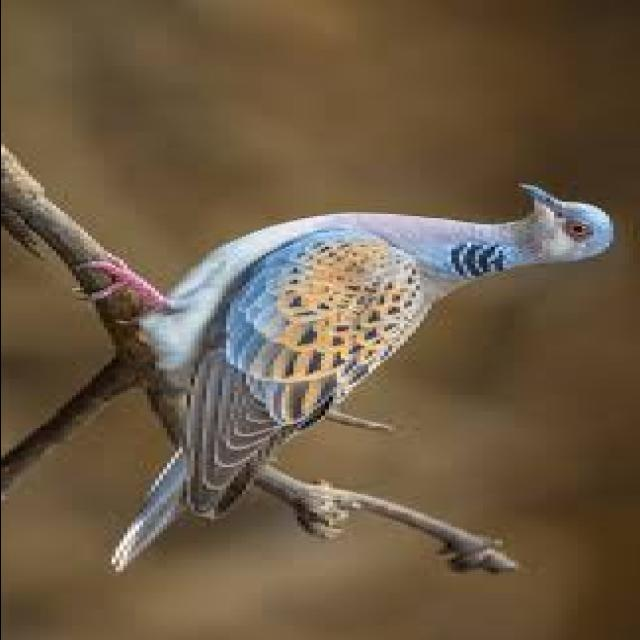pigeon: (72, 178, 636, 564)
